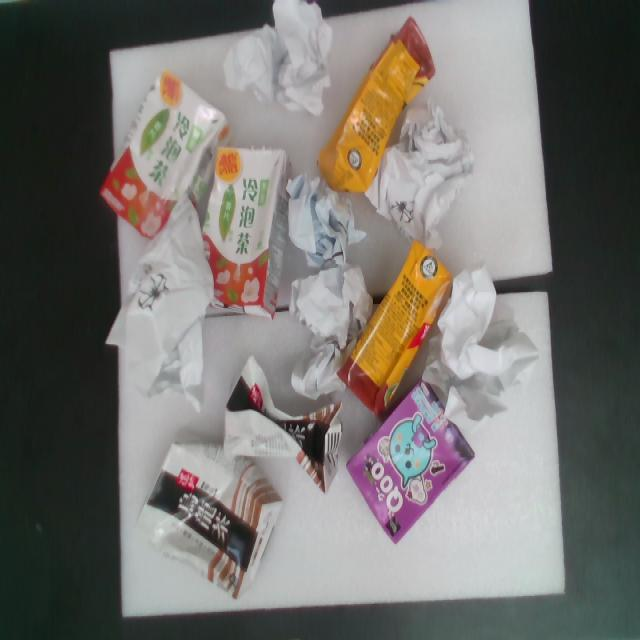juicebox: (63, 50, 245, 265), (109, 433, 302, 617), (322, 369, 504, 558), (316, 225, 479, 431), (301, 6, 460, 208), (187, 353, 372, 521), (188, 139, 298, 335)
paper: (74, 159, 292, 437), (364, 245, 565, 447), (335, 75, 526, 272), (211, 0, 363, 122), (274, 254, 385, 403), (272, 148, 374, 273)
